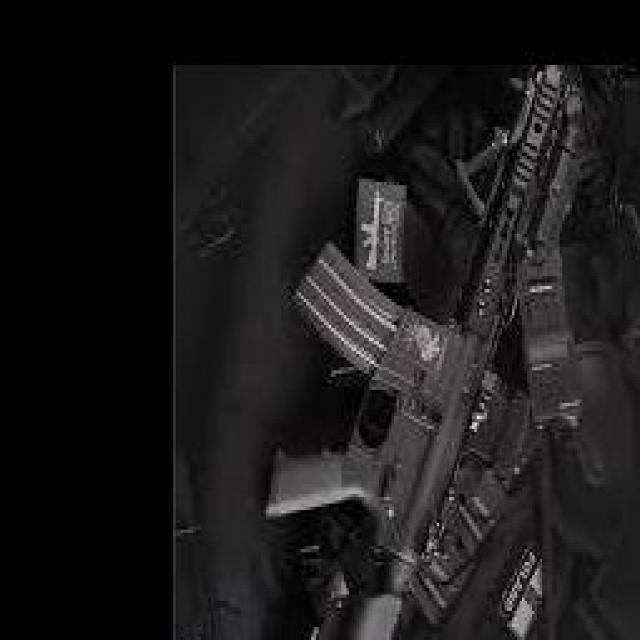weapon: (261, 63, 589, 640)
